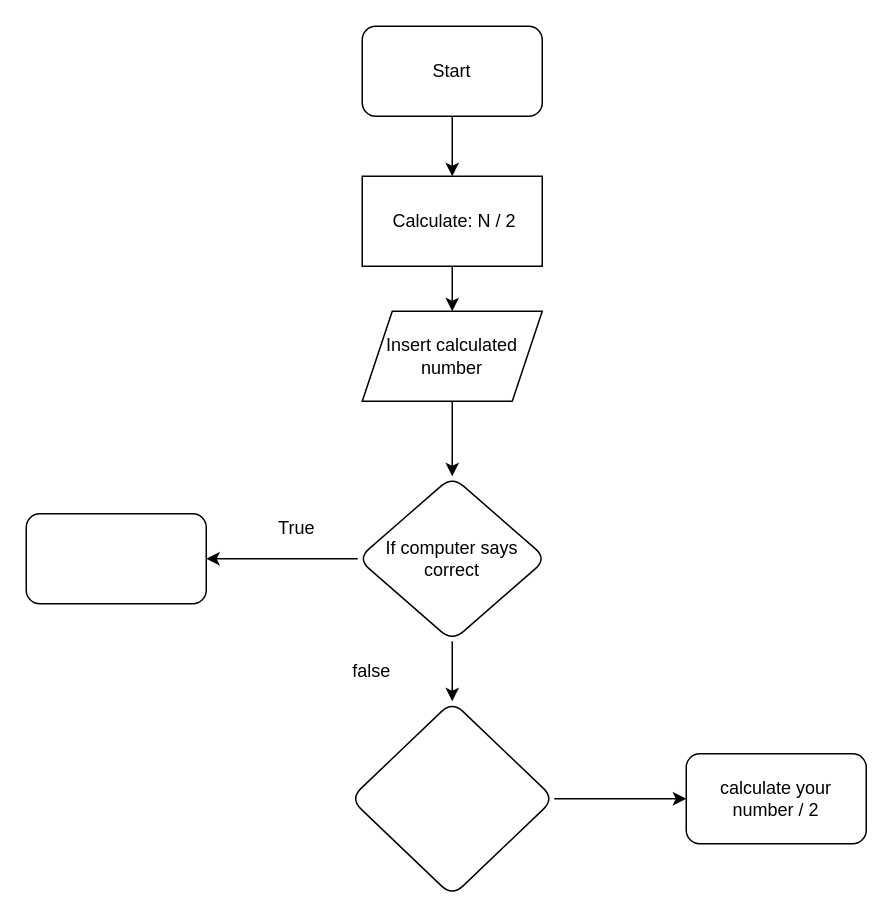
Image size: 893x923. Some labels were removed from this diagram. Here are the shapes that lost their labels. From the top down, the centre of each, then its label:
(x=115, y=558): End
(x=451, y=798): If computer returns number is to high
